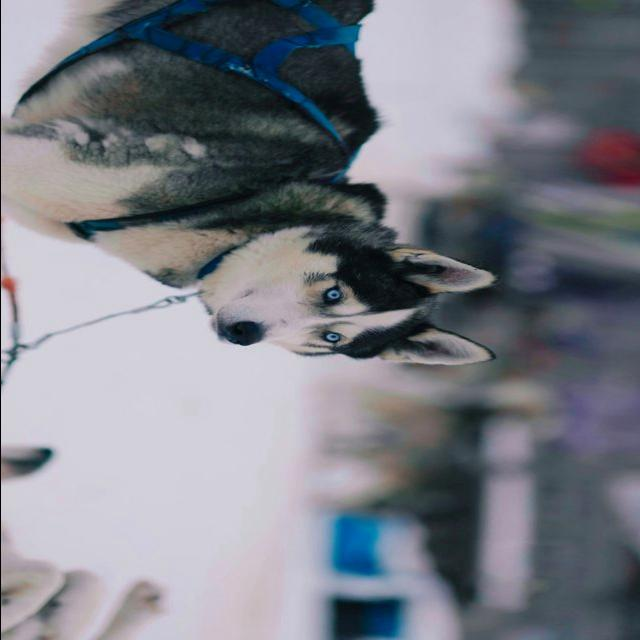husky: (1, 1, 500, 368)
